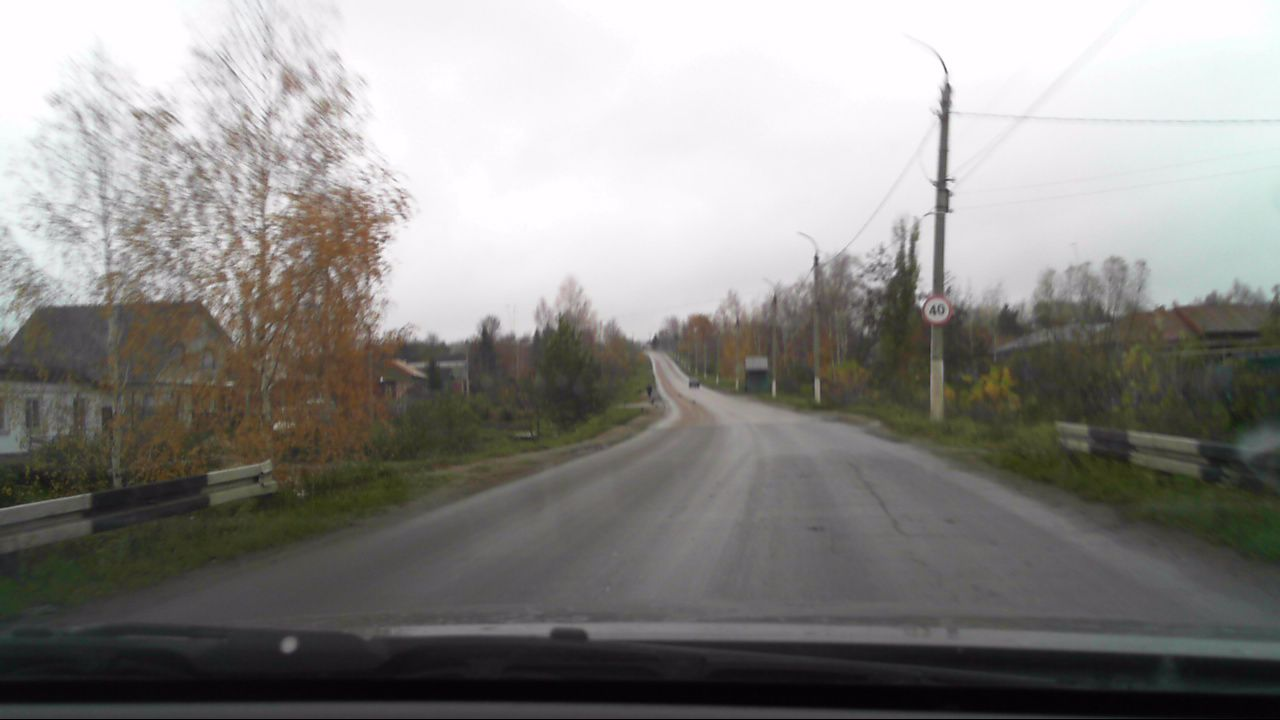speed_warning_40: (920, 296, 951, 326)
